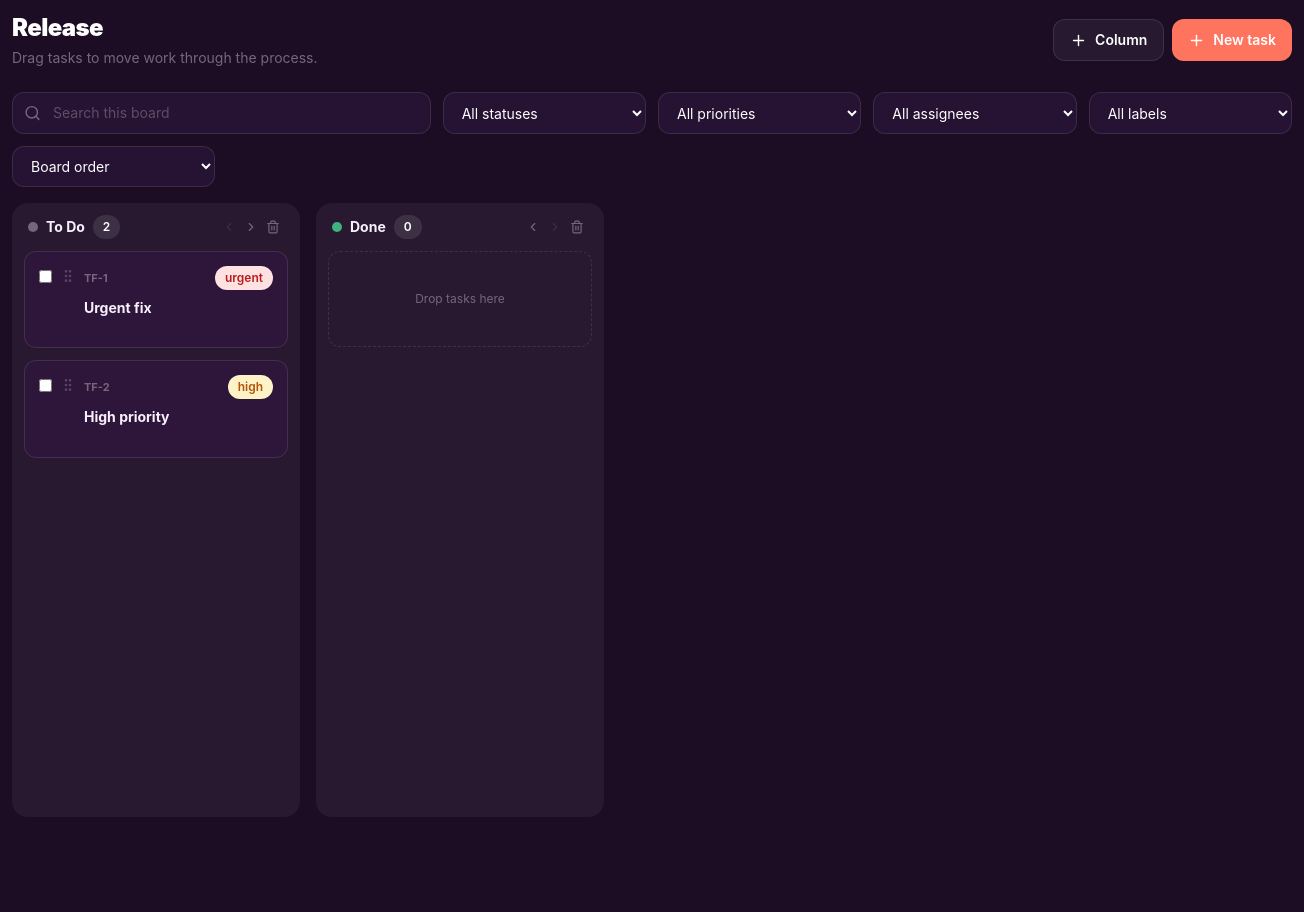
Test case: task creation and Kanban filters › renders Kanban columns and filters tasks by priority
Expected: the heading "Urgent fix" is shown, 84,299 -> 152,316
Expected: the heading "High priority" is shown, 84,408 -> 170,425
Select "High" in the 2nd dropdown at (760, 113), box 658,92 -> 861,134
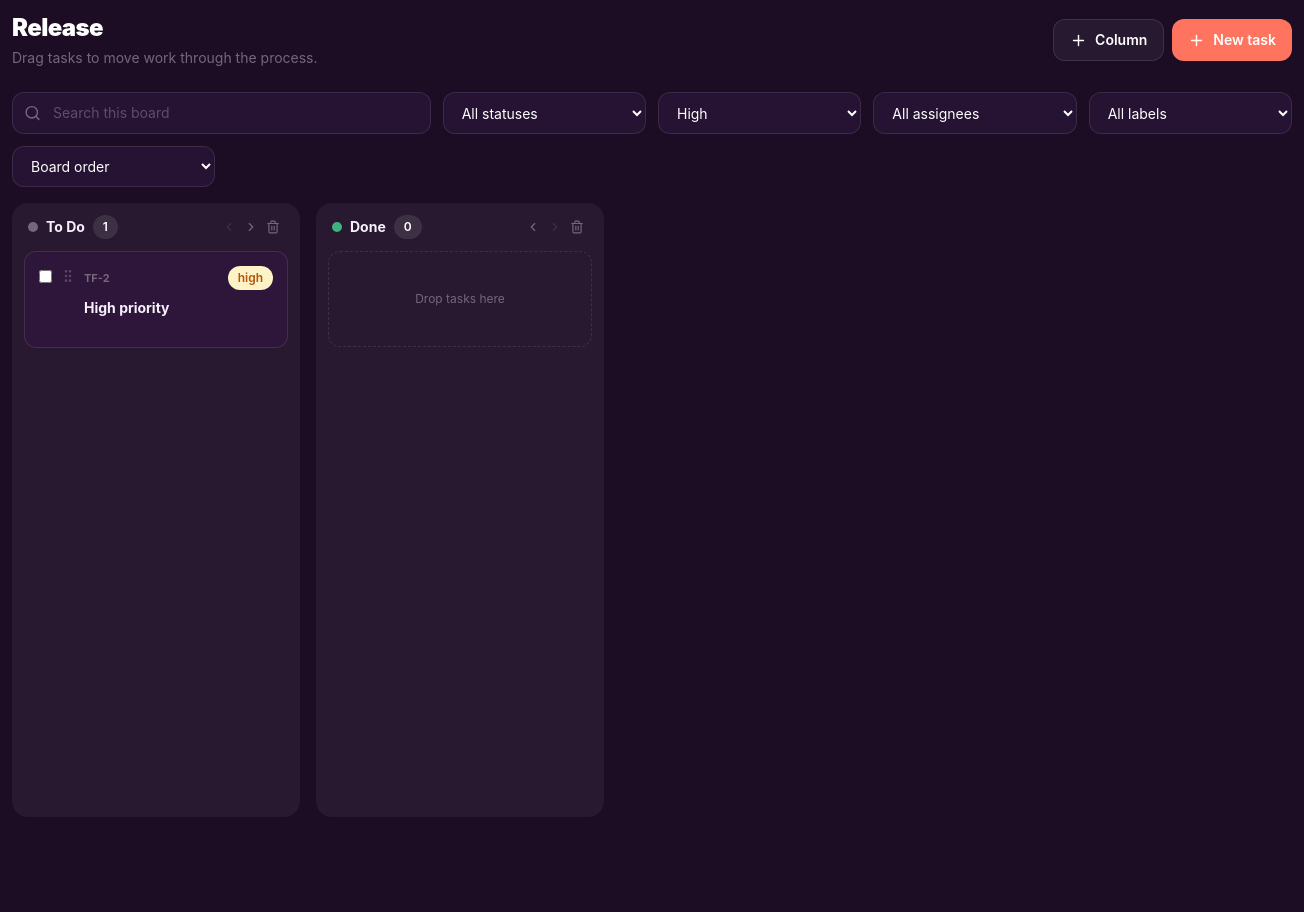
Expected: the heading "High priority" is shown, 84,299 -> 170,316
Result: the heading "Urgent fix" is gone
